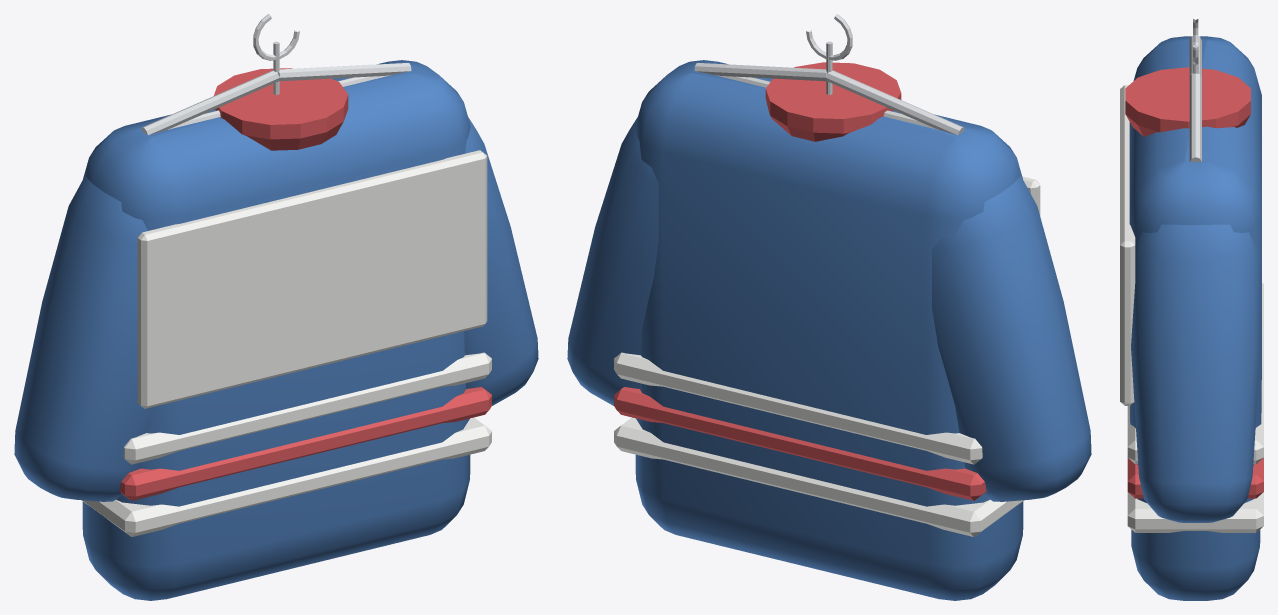
File: ice-hockey-arena-and-locker-room-jersey-on-hanger-61931b95__33728.glb
3 views of the same model, side by side, from view 1: azimuth 30°, elevation 25°; view 2: azimuth 150°, elevation 25°; view 3: azimuth 270°, elevation 25° (orthographic). The views are drawn at different scales.
Visible parts, largest first — view 1: jersey-on-hanger; view 2: jersey-on-hanger; view 3: jersey-on-hanger.
Boxes of the visible parts, bbox=[...] form: jersey-on-hanger: bbox=[14, 14, 538, 600]; jersey-on-hanger: bbox=[567, 14, 1091, 600]; jersey-on-hanger: bbox=[1120, 18, 1263, 600].
Size of the model in its own units: 0.7221 by 0.7523 by 0.19.
